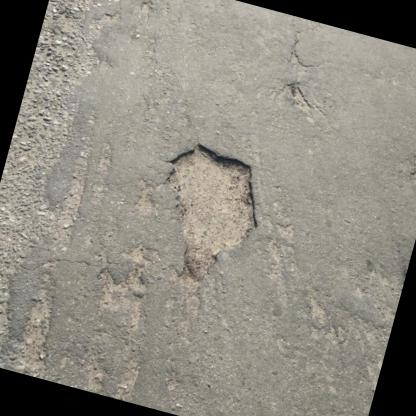pothole: (136, 134, 278, 290), (284, 81, 316, 113), (403, 154, 416, 194)
